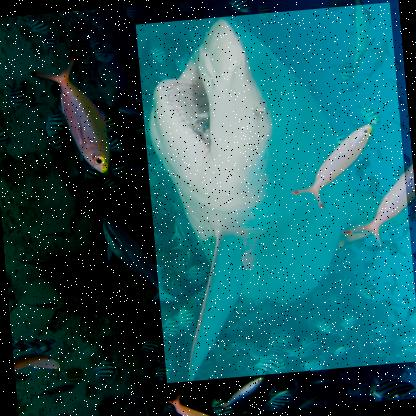bulldog-shark: (134, 2, 415, 385)
